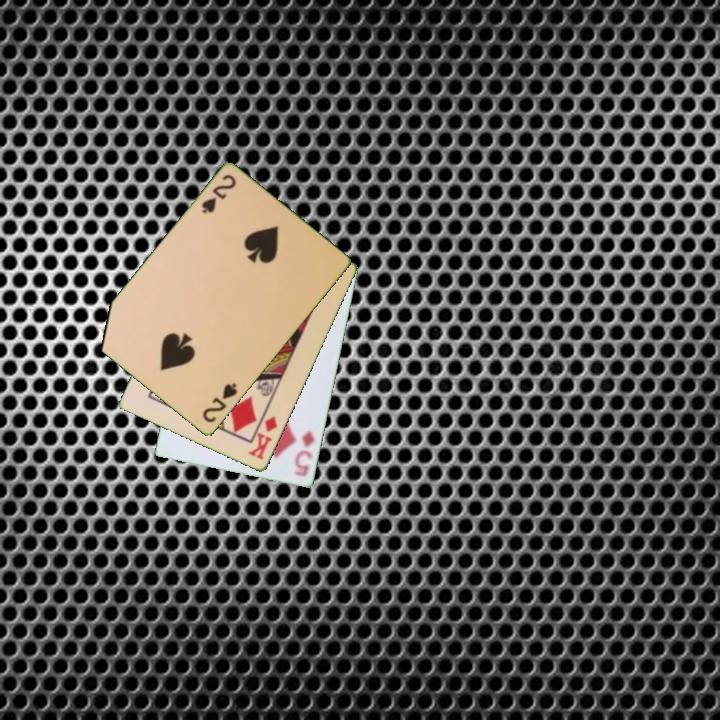2s: (199, 380, 240, 426), (198, 171, 239, 217)
5d: (290, 427, 318, 480)
Kd: (245, 413, 281, 463)
